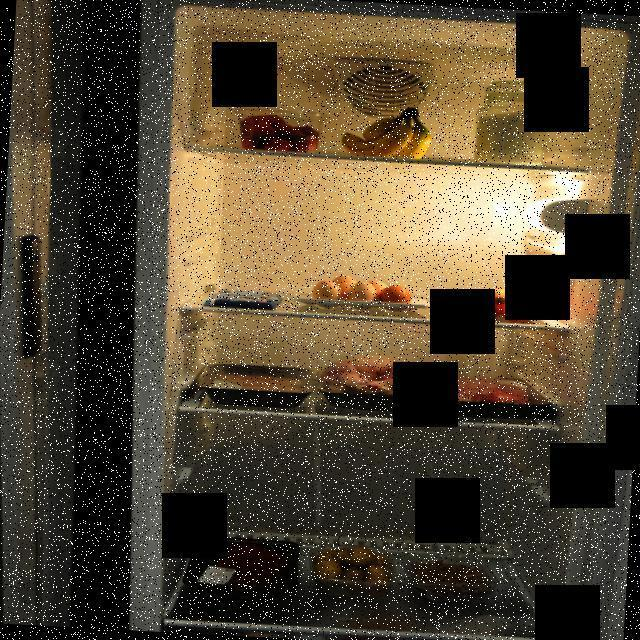Banana: (334, 101, 438, 162)
Beef: (177, 532, 305, 608), (423, 371, 553, 418)
Berries strawberries/blueberries: (230, 108, 326, 156)
Carrot: (436, 280, 544, 325)
Chicken: (314, 343, 442, 422)
Chicken Breast: (195, 361, 314, 410)
Chocolate: (200, 285, 287, 311)
Egg: (310, 270, 413, 314)
Potato: (310, 542, 398, 600)
Shrimp: (406, 554, 500, 606)
Sugar: (473, 76, 548, 167)
